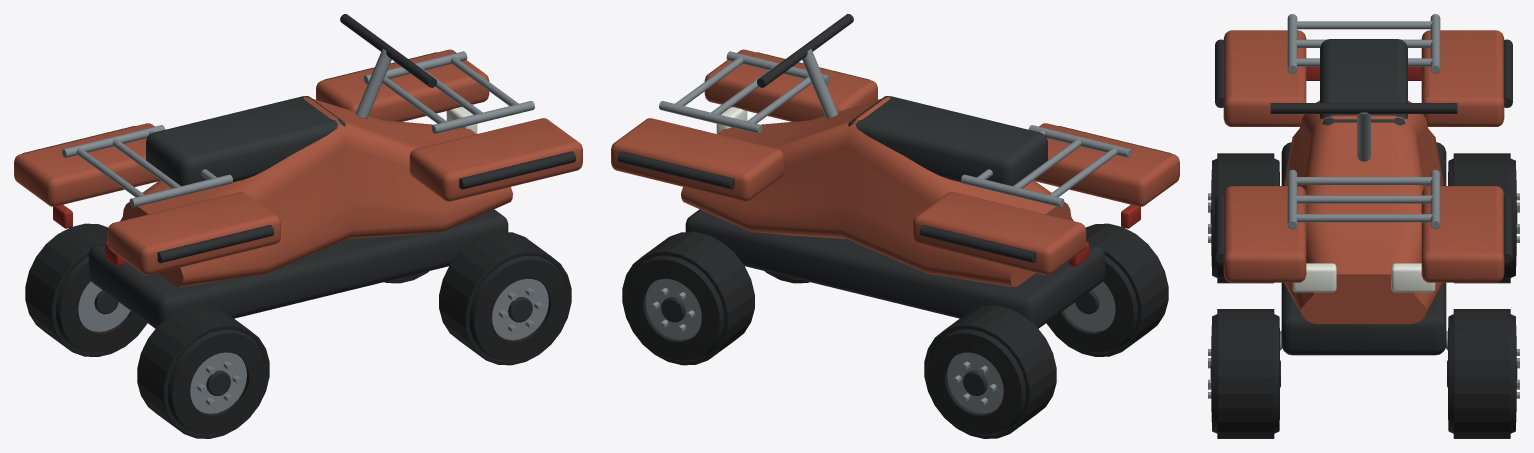
Rendered from mobility_quad.glb.
3 renders of one model, left to right at view 1: azimuth 30°, elevation 25°; view 2: azimuth 150°, elevation 25°; view 3: azimuth 270°, elevation 25°, orthographic. The views are drawn at different scales.
Parts seen in each view (by area): view 1: Tank and nose, Chassis, Saddle, Fender.002, Fender, Fender.001, Fender.003, Tyre.001, Tyre.003, Tyre.002, Rim.003, Rim.001 (+25 smaller); view 2: Tank and nose, Chassis, Saddle, Fender.003, Fender.001, Fender, Fender.002, Tyre, Tyre.002, Tyre.003, Rim.002, Rim (+25 smaller); view 3: Tank and nose, Fender.002, Fender.003, Chassis, Fender, Fender.001, Saddle, Handlebar, Tyre, Tyre.001, Rack crossbar.004, Rack crossbar (+43 smaller).
Part boxes in pixels (x1,y1,x2,y2): Tank and nose: (120,96,512,287); Chassis: (88,209,508,328); Saddle: (146,96,345,186); Fender.002: (409,118,582,201); Fender: (107,191,280,275); Fender.001: (14,123,159,206); Fender.003: (316,49,489,121); Tyre.001: (469,255,568,361); Tyre.003: (167,329,266,434); Tyre.002: (56,256,145,352); Rim.003: (190,352,246,414); Rim.001: (492,278,548,340); Tank and nose: (681,96,1073,287); Chassis: (685,209,1105,328); Saddle: (848,96,1047,186); Fender.003: (611,118,784,201); Fender.001: (913,191,1086,275); Fender: (1034,123,1179,206); Fender.002: (704,49,877,121); Tyre: (625,255,724,361); Tyre.002: (927,329,1026,434); Tyre.003: (1048,256,1137,352); Rim.002: (947,352,1003,414); Rim: (645,278,701,340); Tank and nose: (1284,100,1443,323); Fender.002: (1223,186,1306,282); Fender.003: (1421,186,1504,282); Chassis: (1281,142,1446,355); Fender: (1223,30,1306,126); Fender.001: (1421,30,1504,126); Saddle: (1320,39,1407,125); Handlebar: (1270,103,1457,113); Tyre: (1448,314,1516,433); Tyre.001: (1211,314,1279,433); Rack crossbar.004: (1295,195,1432,203); Rack crossbar: (1295,21,1432,29).
Size of the model in its own units: 1.96 by 1.19 by 1.14.
